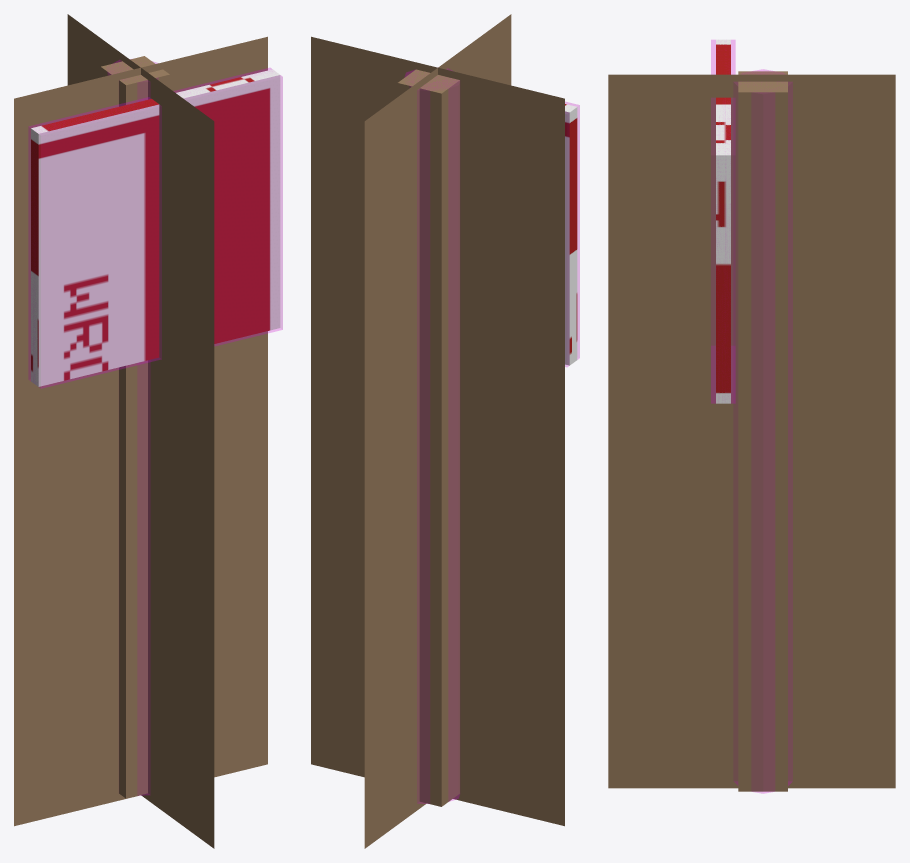
File: wrong_way.dae
3 views of the same model, side by side, from view 1: azimuth 30°, elevation 25°; view 2: azimuth 150°, elevation 25°; view 3: azimuth 270°, elevation 25° (orthographic).
Parts seen in each view (by area): view 1: wrong_way_a50, wrong_way_a800, Colmesh_sign-1, Colmesh_post-1, wrong_way_a200; view 2: wrong_way_a50, wrong_way_a800, Colmesh_post-1, wrong_way_a200, Colmesh_sign-1; view 3: wrong_way_a50, wrong_way_a800, Colmesh_post-1, Colmesh_sign-1.
Part boxes in pixels (bbox=[...]): wrong_way_a50: bbox=[14, 14, 267, 848]; wrong_way_a800: bbox=[31, 56, 280, 798]; Colmesh_sign-1: bbox=[28, 68, 282, 388]; Colmesh_post-1: bbox=[108, 60, 157, 795]; wrong_way_a200: bbox=[119, 61, 169, 796]; wrong_way_a50: bbox=[311, 14, 564, 848]; wrong_way_a800: bbox=[397, 69, 577, 806]; Colmesh_post-1: bbox=[405, 68, 459, 803]; wrong_way_a200: bbox=[413, 71, 459, 805]; Colmesh_sign-1: bbox=[565, 102, 579, 366]; wrong_way_a50: bbox=[608, 74, 895, 788]; wrong_way_a800: bbox=[716, 39, 787, 791]; Colmesh_post-1: bbox=[734, 69, 792, 793]; Colmesh_sign-1: bbox=[711, 40, 735, 403].
Size of the model in its own units: 0.5775 by 0.5775 by 1.58.
3 materials, 1 textured.
